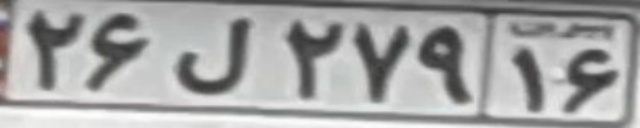1: (512, 45, 544, 112)
2: (284, 20, 342, 99), (29, 9, 76, 90)
6: (89, 11, 148, 91), (561, 47, 616, 114)
7: (352, 24, 409, 102)
9: (418, 24, 470, 103)
lam: (177, 17, 247, 94)
